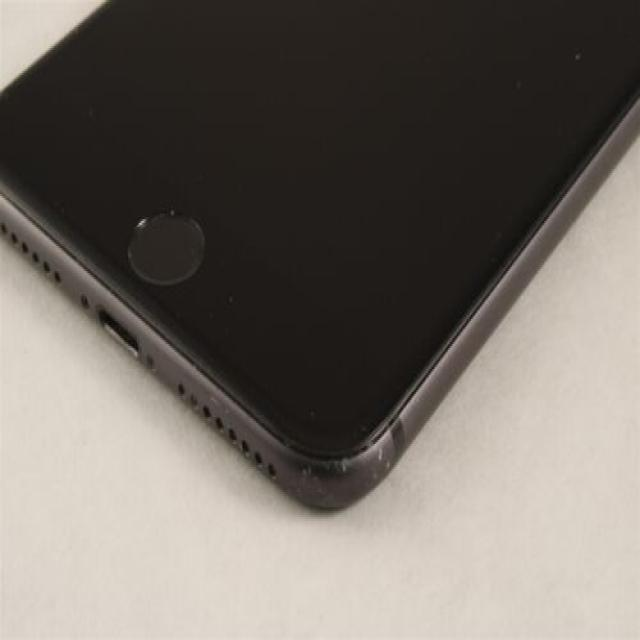Dents: (287, 461, 360, 508), (369, 443, 397, 488)
